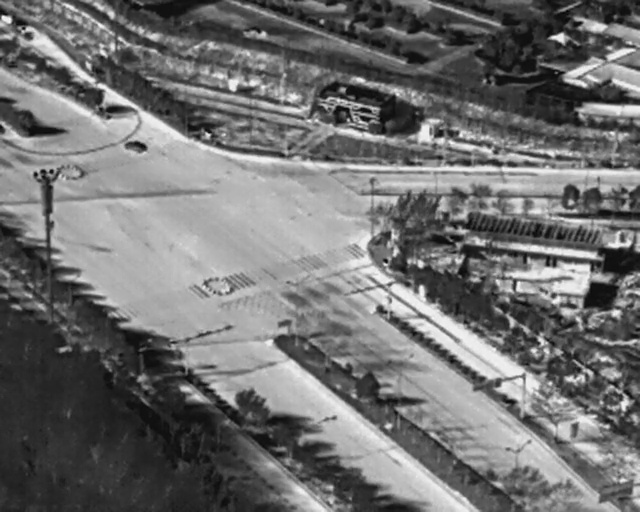Car: (123, 134, 148, 156)
